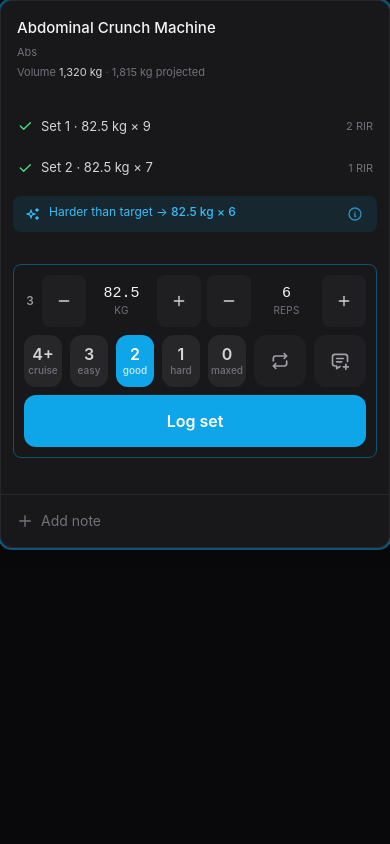
rep_total prescription reacts to a set logged in the SAME mounted card › says why the ask moved instead of shrinking it silently
This screenshot has width=390, height=844.
Click the button named "How this suggestion works".
click(355, 214)  # box [345,204,365,224]
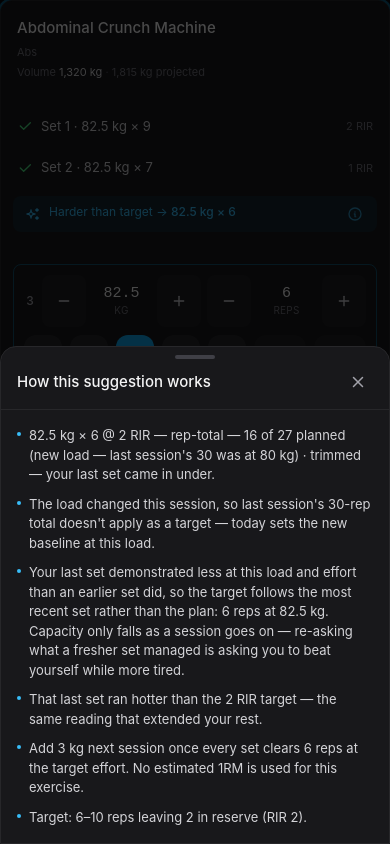
Now the list item "came in under" is shown, box [29,427,361,482]
